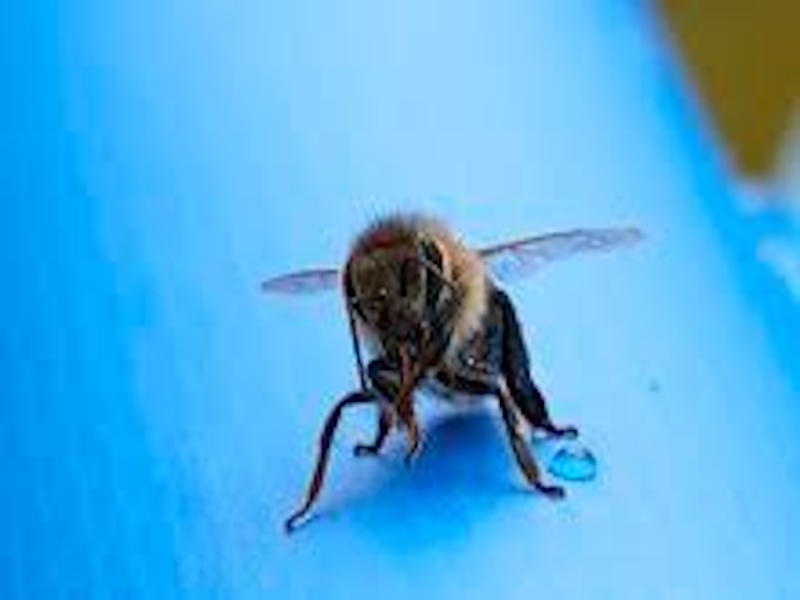abeja: (240, 175, 669, 511)
